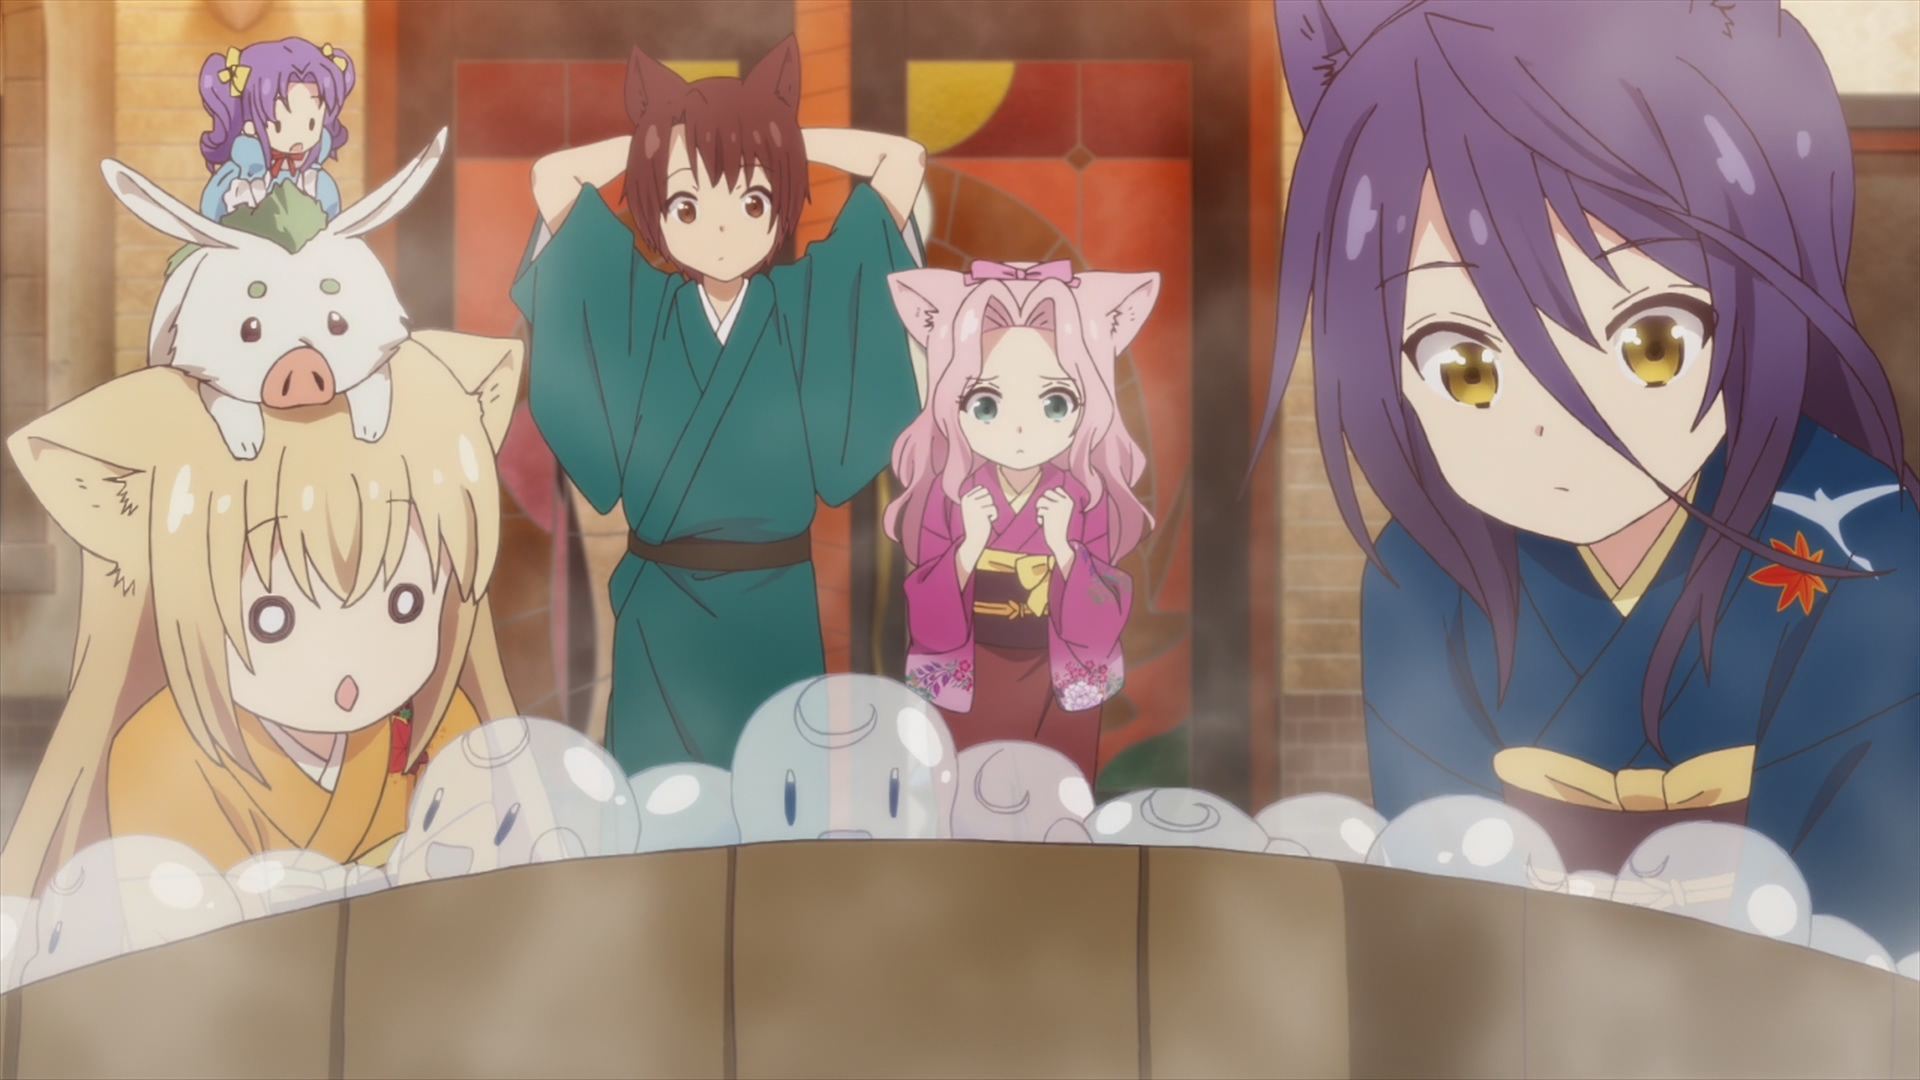枣: (509, 36, 927, 851)
柚: (1, 330, 526, 990)
瓜之介: (96, 124, 444, 463)
皋: (1240, 1, 1920, 964)
莲: (886, 260, 1160, 843)
阿菊: (198, 37, 359, 220)
